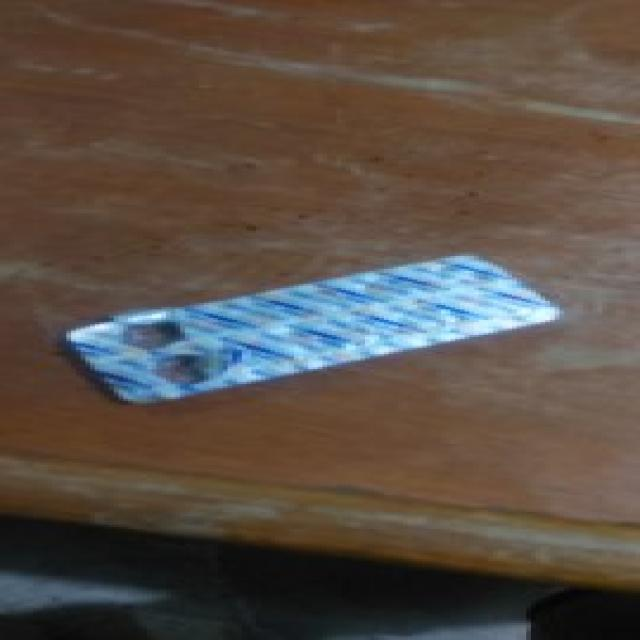Cacat: (57, 254, 578, 406)
Kemasan: (111, 317, 230, 387)
